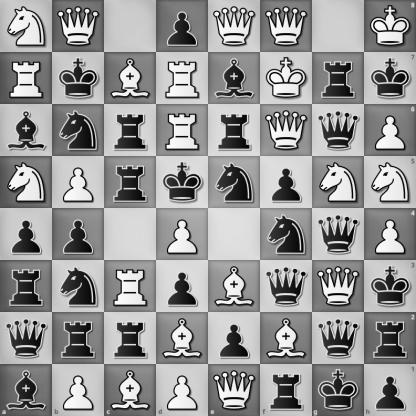B: (104, 364, 156, 416), (105, 53, 156, 104), (157, 313, 208, 364), (209, 261, 260, 312), (261, 313, 312, 364)
K: (364, 0, 416, 52), (261, 53, 312, 104)
N: (364, 156, 416, 209), (1, 1, 52, 52), (1, 157, 52, 208), (313, 157, 364, 208)
P: (156, 364, 209, 416), (52, 364, 104, 416), (364, 104, 416, 156), (364, 209, 416, 260), (53, 157, 104, 208), (157, 209, 208, 260)
Q: (209, 364, 260, 416), (53, 1, 104, 52), (209, 1, 260, 52), (261, 1, 312, 52), (261, 105, 312, 156), (313, 261, 364, 312)
R: (1, 53, 52, 104), (105, 261, 156, 312), (157, 53, 208, 104), (157, 105, 208, 156)
b: (0, 364, 52, 416), (1, 105, 52, 156), (209, 53, 260, 104)
board: (0, 0, 415, 415)
k: (312, 364, 364, 416), (364, 52, 416, 104), (364, 260, 416, 312), (53, 53, 104, 104), (157, 157, 208, 208)
n: (53, 105, 104, 156), (53, 261, 104, 312), (209, 157, 260, 208), (261, 209, 312, 260)
p: (364, 364, 416, 416), (1, 209, 52, 260), (53, 209, 104, 260), (157, 1, 208, 52), (157, 261, 208, 312), (209, 313, 260, 364), (261, 157, 312, 208)
q: (1, 313, 52, 364), (261, 261, 312, 312), (313, 105, 364, 156), (313, 209, 364, 260), (313, 313, 364, 364)
r: (260, 364, 312, 416), (364, 312, 416, 364), (1, 261, 52, 312), (53, 313, 104, 364), (105, 105, 156, 156), (105, 157, 156, 208), (105, 313, 156, 364), (209, 105, 260, 156), (313, 53, 364, 104)
